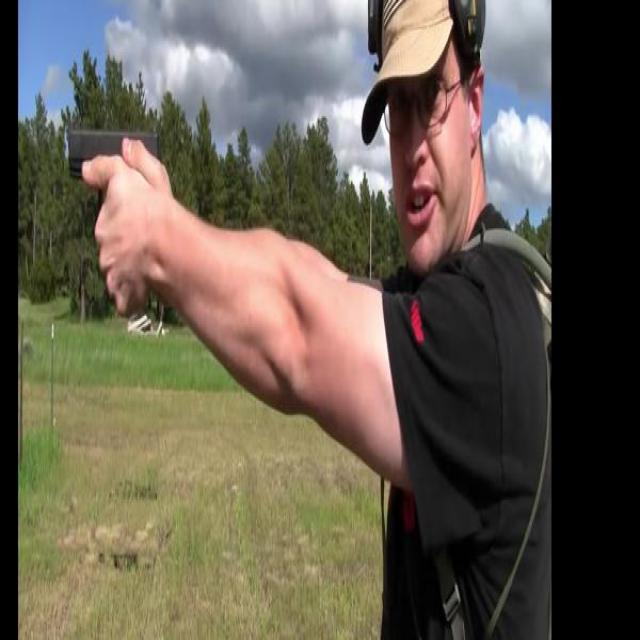Gun: (66, 124, 160, 290)
